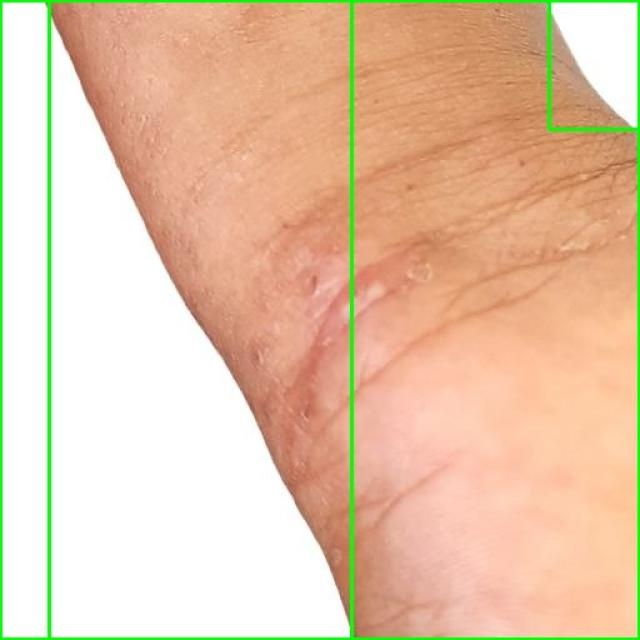Scabies: (49, 0, 639, 639), (0, 0, 351, 639), (549, 0, 639, 129)
